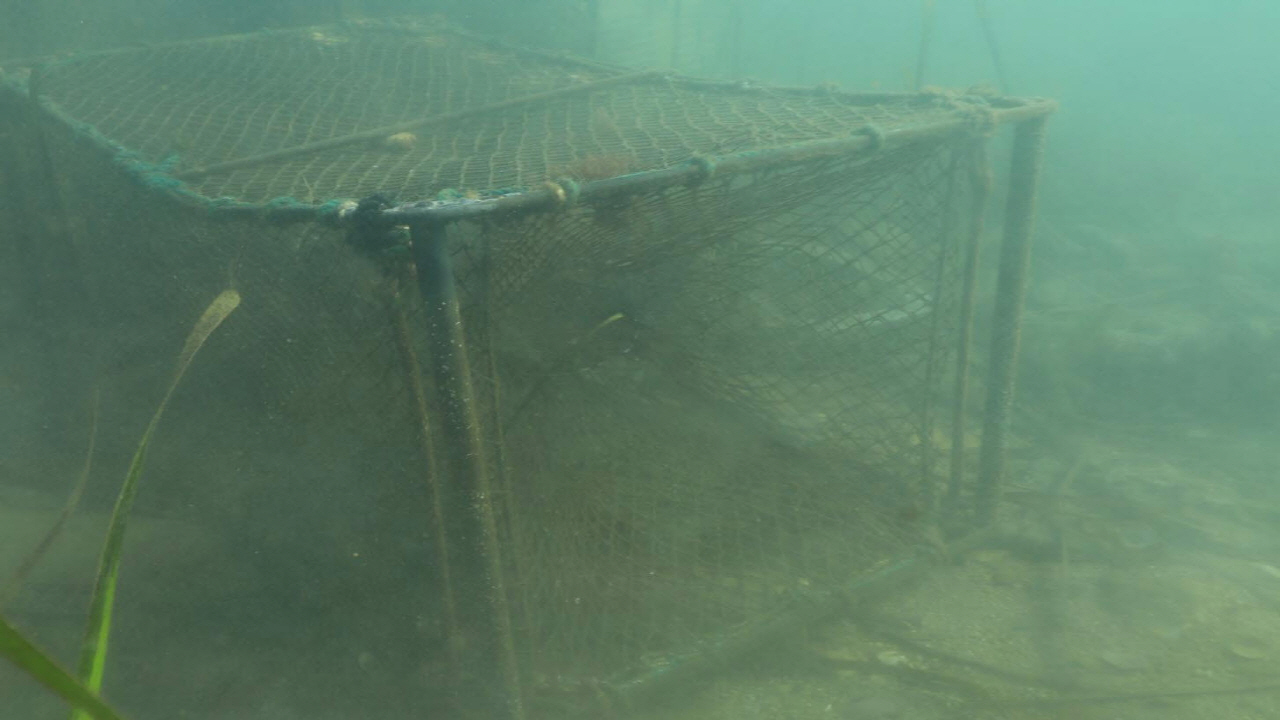rectangular fish trap: (0, 12, 1059, 719)
